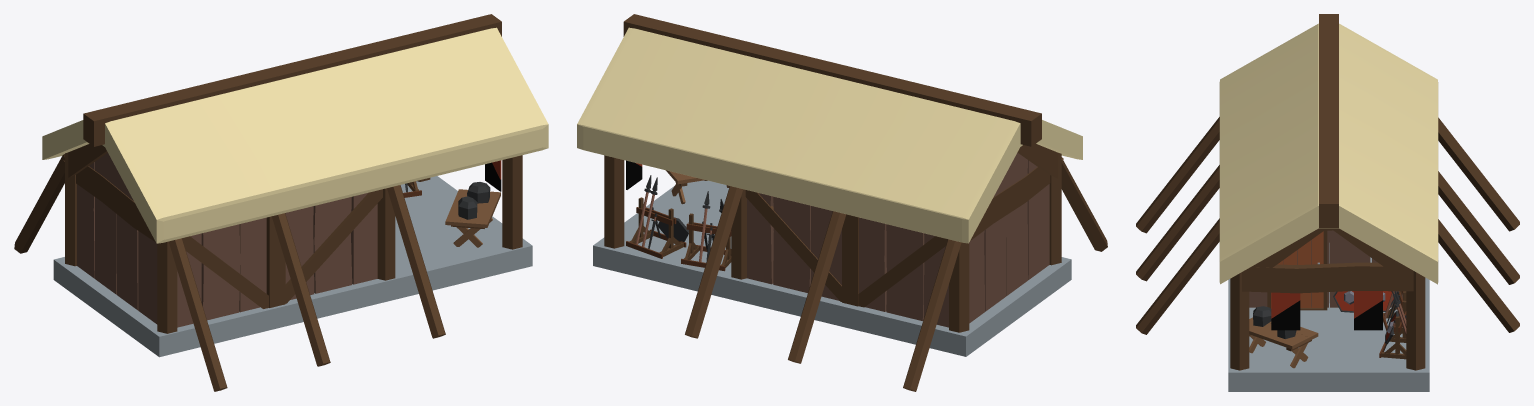
Rendered from Barracks.fbx.
3 renders of one model, left to right at view 1: azimuth 30°, elevation 25°; view 2: azimuth 150°, elevation 25°; view 3: azimuth 270°, elevation 25°, orthographic. The views are drawn at different scales.
Parts seen in each view (by area): view 1: Barracks; view 2: Barracks; view 3: Barracks.
Part boxes in pixels (bbox=[...]): Barracks: bbox=[14, 14, 548, 391]; Barracks: bbox=[577, 14, 1107, 391]; Barracks: bbox=[1136, 14, 1519, 391].
Bounding box in the file's own units: 2324 × 1154 × 1985.
